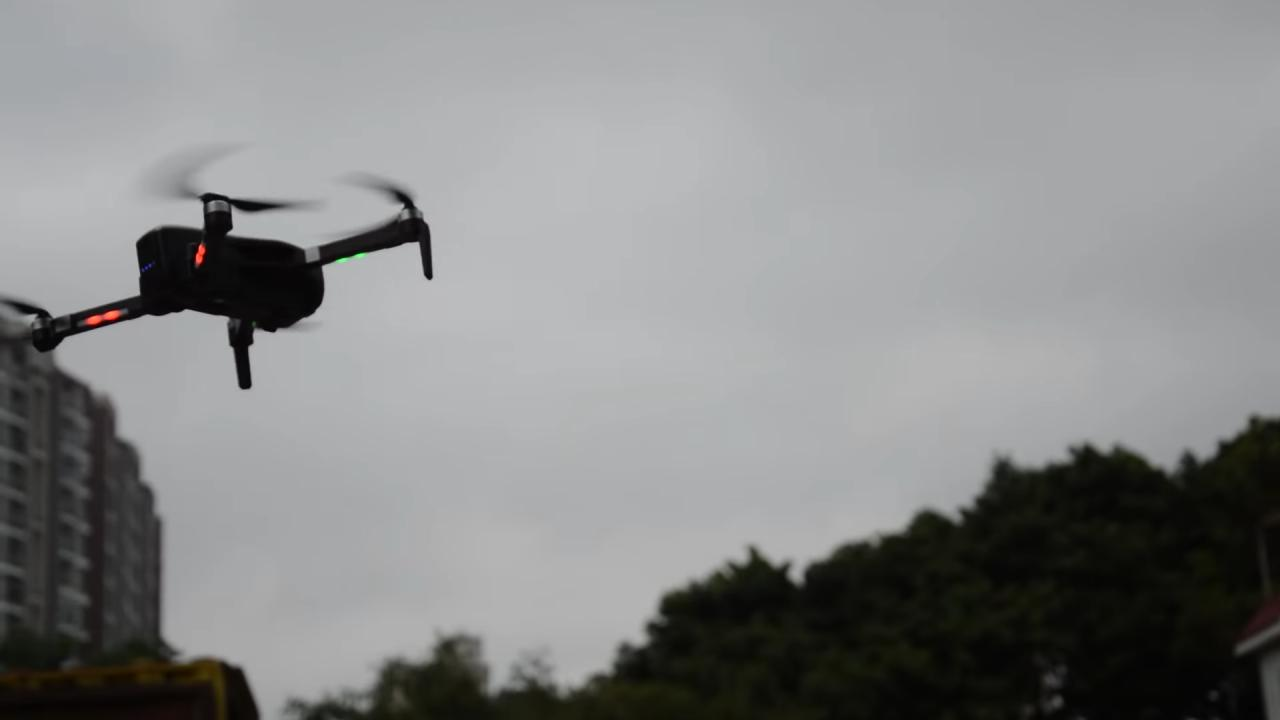Drone: (0, 115, 450, 401)
